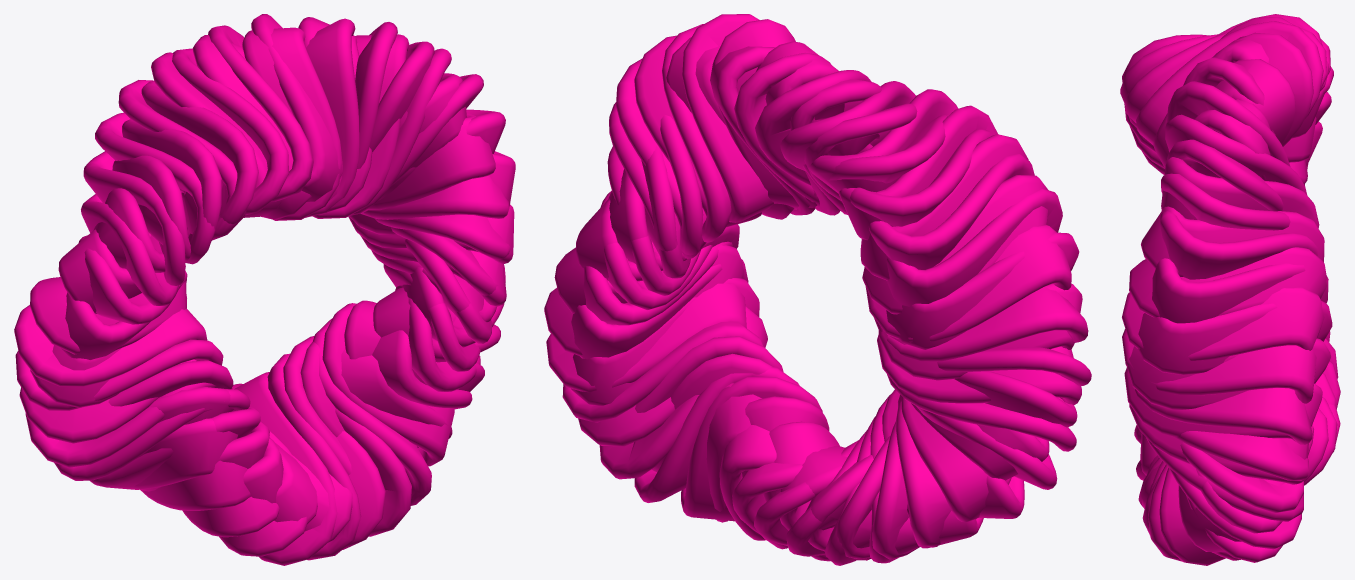
File: torus_knot.glb
3 views of the same model, side by side, from view 1: azimuth 30°, elevation 25°; view 2: azimuth 150°, elevation 25°; view 3: azimuth 270°, elevation 25° (orthographic). The views are drawn at different scales.
Visible parts, largest first — view 1: Torus Knot 4 x 26; view 2: Torus Knot 4 x 26; view 3: Torus Knot 4 x 26.
Boxes of the visible parts, box(x1,y1,x2,y2) form: Torus Knot 4 x 26: box(14, 14, 515, 565); Torus Knot 4 x 26: box(544, 14, 1091, 565); Torus Knot 4 x 26: box(1120, 14, 1340, 565).
Bounding box in the file's own units: 5.15 × 5.08 × 2.01.
